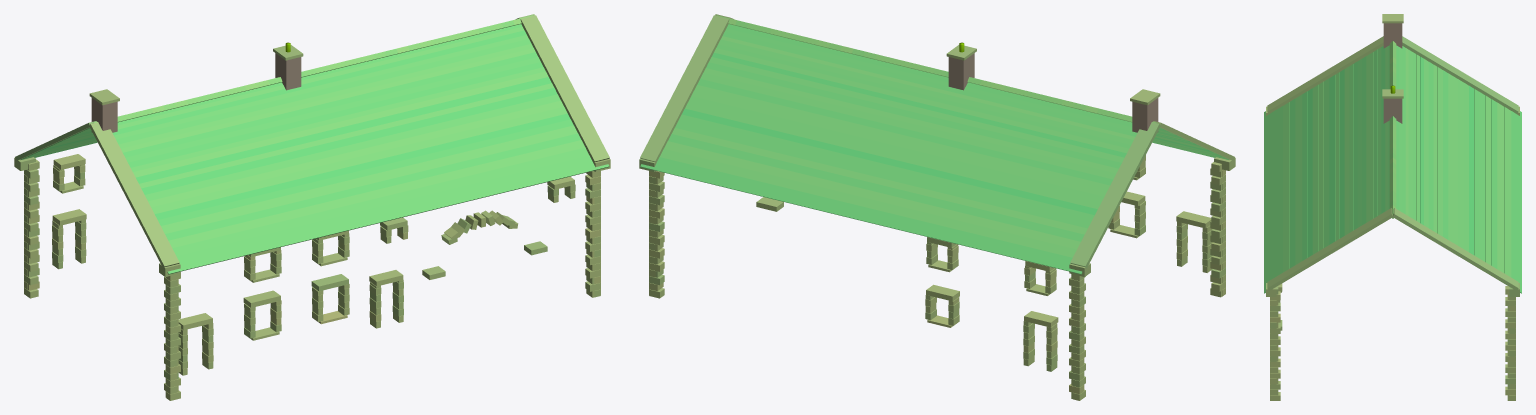
File: SM_Bld_129_Stone.glb
3 views of the same model, side by side, from view 1: azimuth 30°, elevation 25°; view 2: azimuth 150°, elevation 25°; view 3: azimuth 270°, elevation 25° (orthographic). The views are drawn at different scales.
Parts seen in each view (by area): view 1: SM_Bld_129_Stone; view 2: SM_Bld_129_Stone; view 3: SM_Bld_129_Stone.
Boxes of the visible parts, <box> form: SM_Bld_129_Stone: <box>14,14,610,400</box>; SM_Bld_129_Stone: <box>639,14,1235,400</box>; SM_Bld_129_Stone: <box>1264,14,1521,400</box>.
Size of the model in its own units: 21.01 by 11.59 by 12.53.
